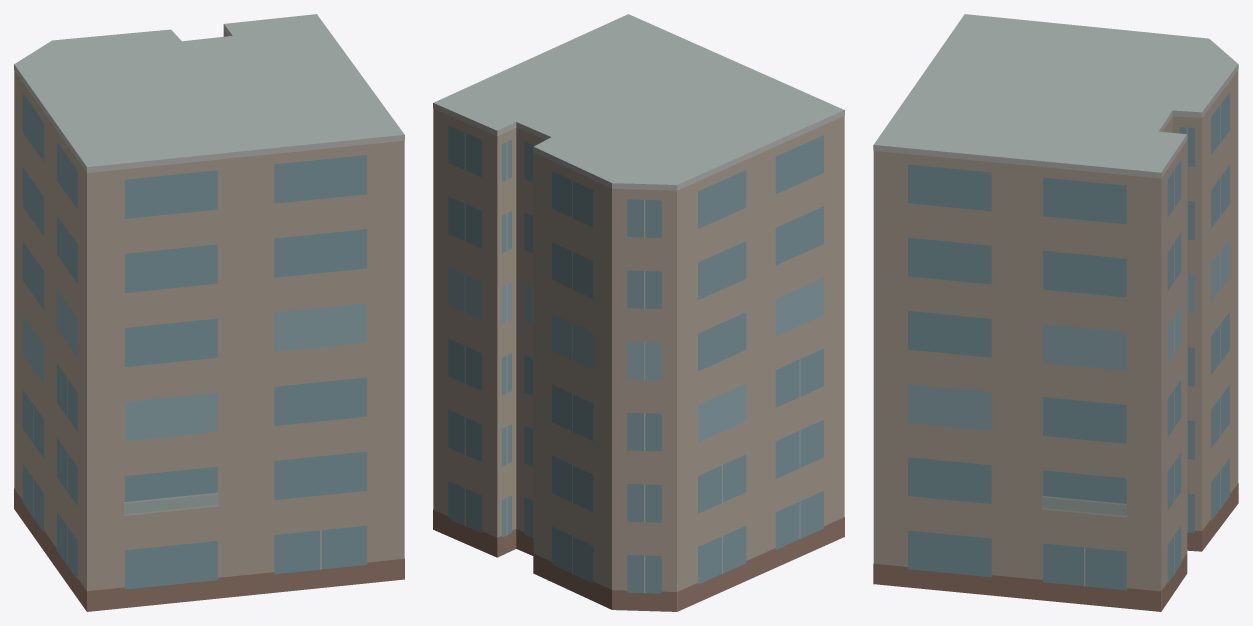
File: survey-upis-33005306.glb
The picture shows the model from 3 angles, left to right: view 1: azimuth 30°, elevation 25°; view 2: azimuth 150°, elevation 25°; view 3: azimuth 270°, elevation 25°; orthographic projection. The views are drawn at different scales.
Visible parts, largest first — view 1: survey-upis-33005306.tmp; view 2: survey-upis-33005306.tmp; view 3: survey-upis-33005306.tmp.
Boxes of the visible parts, box(x1,y1,x2,y2) form: survey-upis-33005306.tmp: box(14, 14, 404, 611); survey-upis-33005306.tmp: box(433, 14, 844, 611); survey-upis-33005306.tmp: box(873, 14, 1238, 611).
Size of the model in its own units: 14.27 by 18.4 by 13.87.
